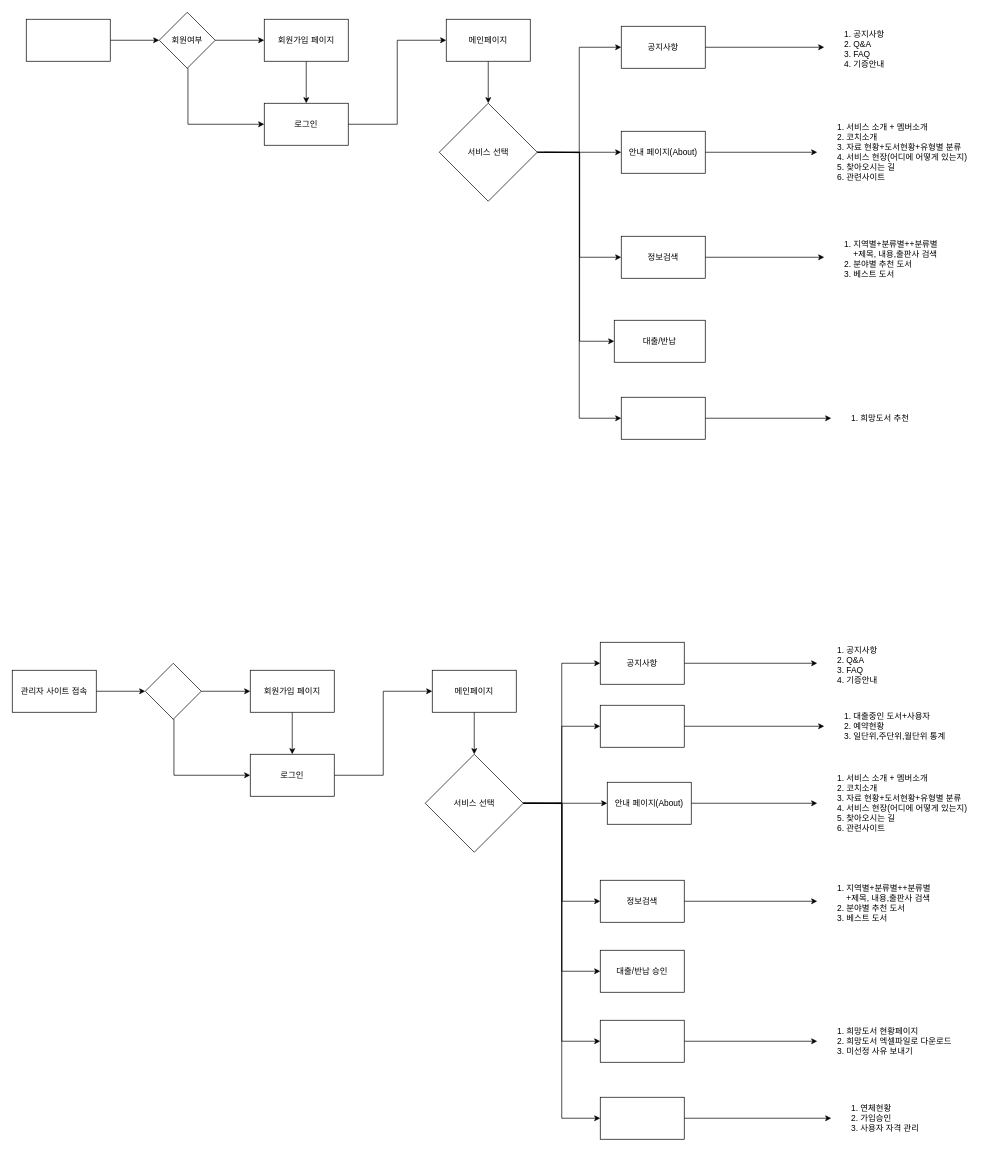
This 1005x1159 diagram has some shape labels left out. Here are the shapes that lost their labels. From the top down, the box of each, then its label:
(26, 19, 110, 61): 고객 사이트 접속
(621, 397, 705, 439): 희망도서
(145, 663, 201, 719): 관리자 여부
(600, 705, 684, 747): 도서현황
(600, 1020, 684, 1062): 도서 구매
(600, 1097, 684, 1139): 사용자 현황
